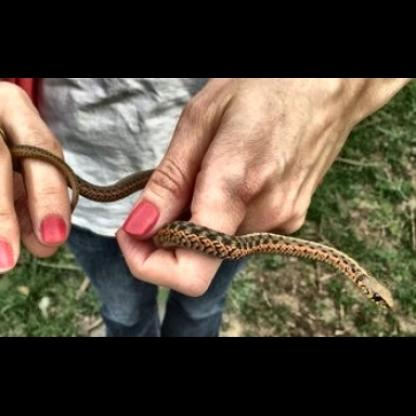Snake: (154, 219, 396, 313), (16, 138, 195, 214)
